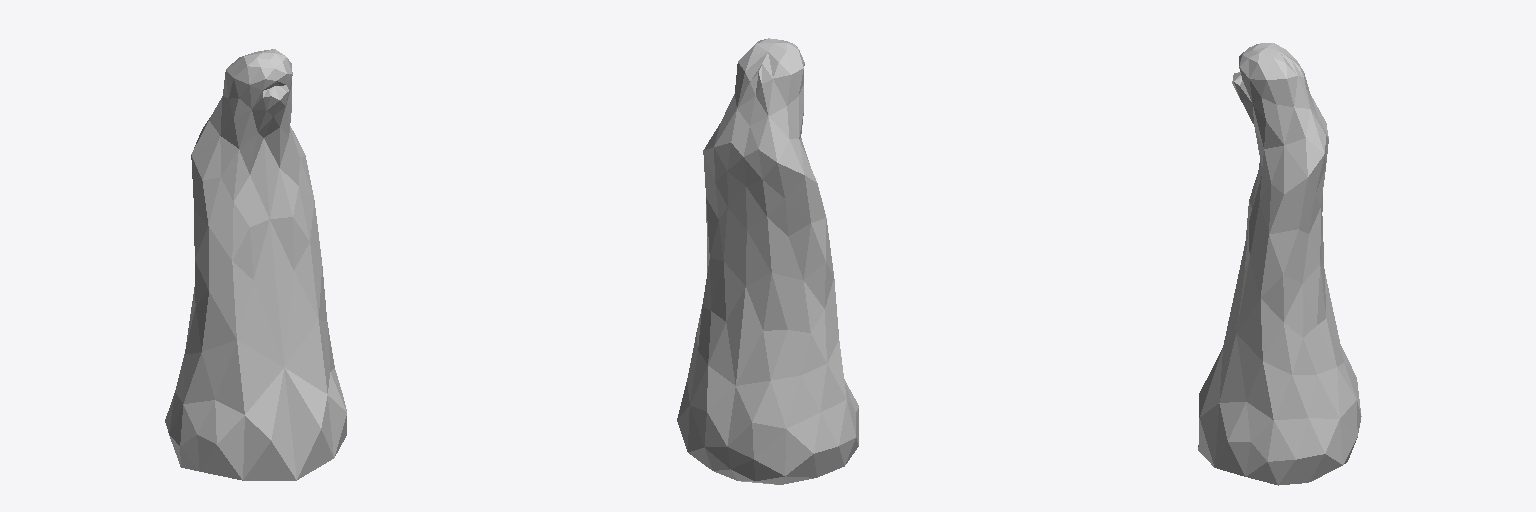
File: sculpture1.obj
The picture shows the model from 3 angles: view 1: azimuth 30°, elevation 25°; view 2: azimuth 150°, elevation 25°; view 3: azimuth 270°, elevation 25°; orthographic projection.
Bounding box in the file's own units: 231 × 561 × 199.